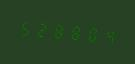eight: (66, 19, 81, 45), (50, 18, 65, 43)
five: (17, 15, 32, 40)
four: (98, 22, 113, 47)
two: (33, 17, 48, 42)
zero: (82, 21, 97, 46)
